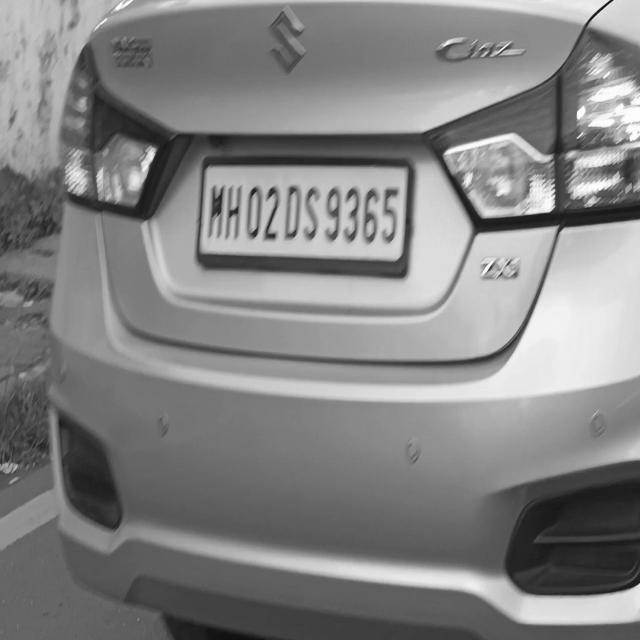license-plate: (203, 152, 414, 292)
